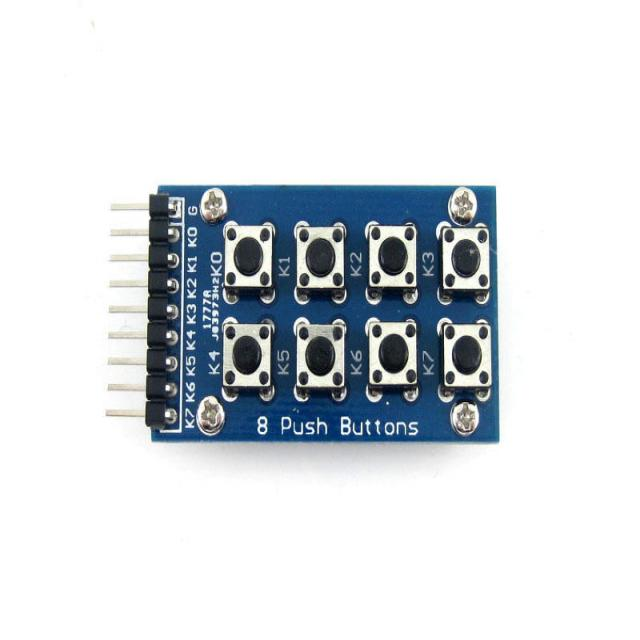2235: (223, 220, 274, 302), (439, 223, 490, 300), (294, 226, 345, 302), (368, 221, 417, 296), (442, 321, 493, 391), (368, 321, 417, 388), (296, 324, 344, 392), (222, 324, 270, 388)
connector -5v-: (103, 199, 182, 423)
